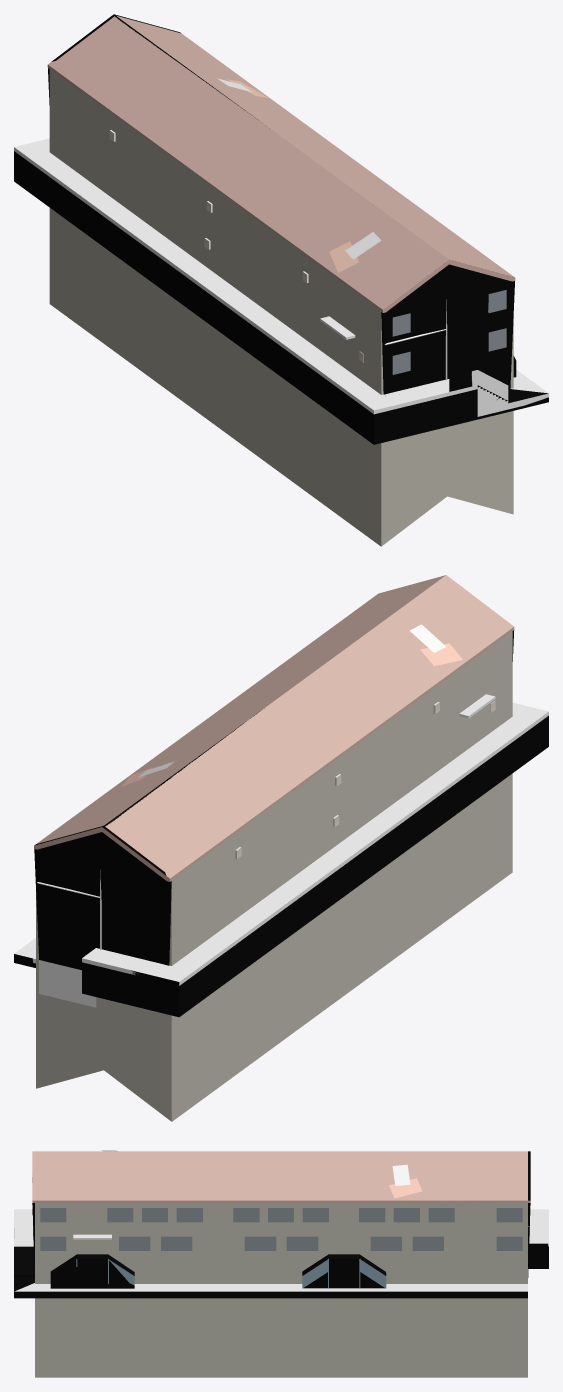
Rendered from projects.dae.
3 views of the same model, one above another, from view 1: azimuth 30°, elevation 25°; view 2: azimuth 150°, elevation 25°; view 3: azimuth 270°, elevation 25° (orthographic). The views are drawn at different scales.
Visible parts, largest first — view 1: projects_a30, projects_a150, Colmesh_projects-1; view 2: projects_a30, projects_a150, Colmesh_projects-1; view 3: projects_a30, projects_a150, Colmesh_projects-1.
Boxes of the visible parts, <box> form: projects_a30: <box>49,66,513,546</box>; projects_a150: <box>14,15,548,416</box>; Colmesh_projects-1: <box>14,14,548,444</box>; projects_a30: <box>36,629,512,1121</box>; projects_a150: <box>14,575,548,1007</box>; Colmesh_projects-1: <box>14,630,548,1017</box>; projects_a30: <box>35,1200,527,1377</box>; projects_a150: <box>14,1150,548,1291</box>; Colmesh_projects-1: <box>14,1151,548,1298</box>.
Bounding box in the file's own units: 14.32 × 51 × 21.29.
